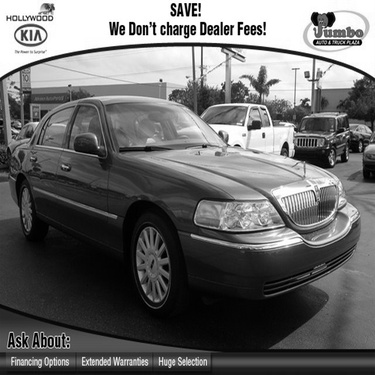car: (18, 87, 360, 318), (292, 97, 355, 166)
